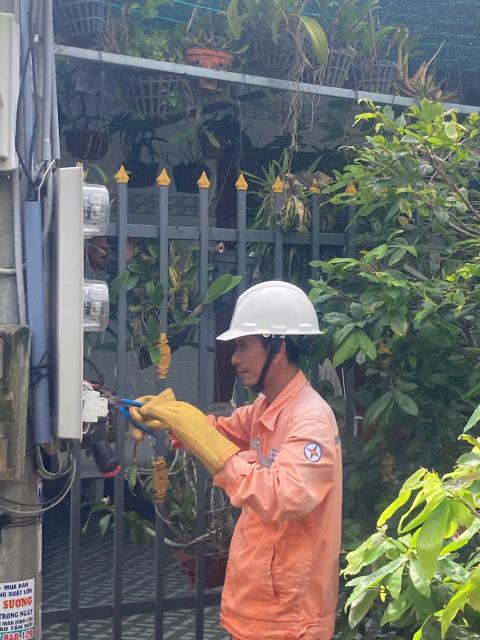gloves: (132, 388, 248, 485), (117, 392, 206, 443)
helmet: (200, 267, 346, 357)
